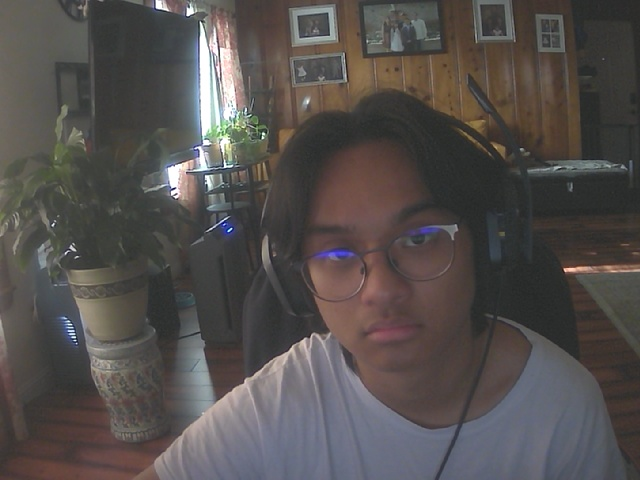neutral: (296, 127, 483, 372)
